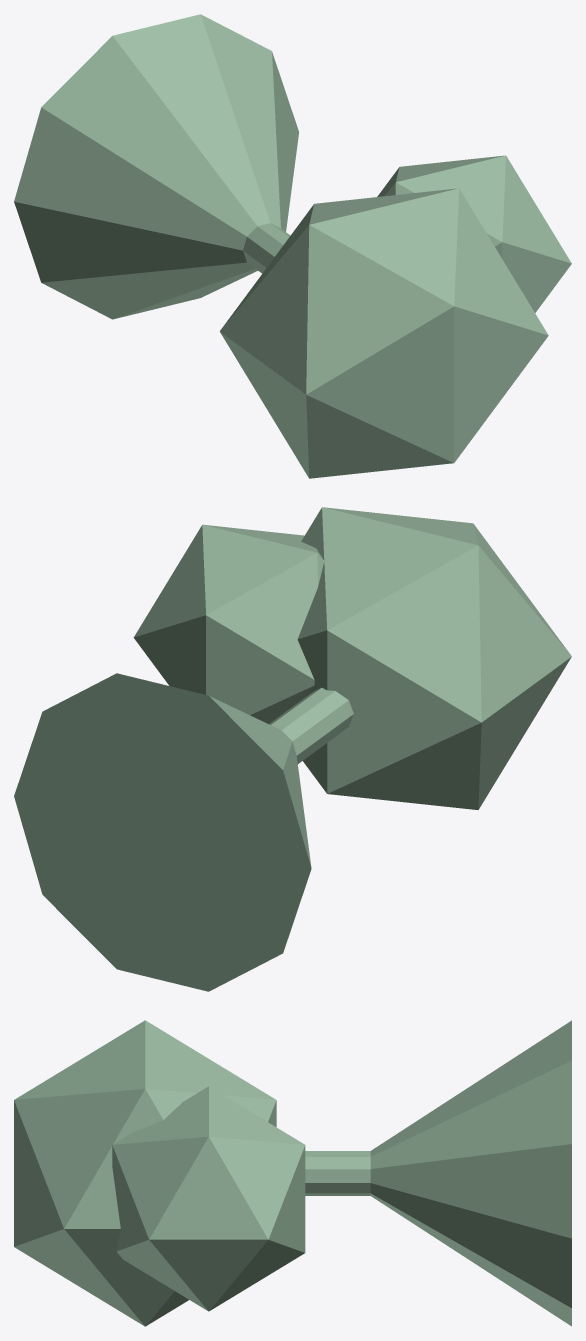
File: office-planter_lod0.glb
3 views of the same model, one above another, from view 1: azimuth 30°, elevation 25°; view 2: azimuth 150°, elevation 25°; view 3: azimuth 270°, elevation 25° (orthographic). The views are drawn at different scales.
Parts seen in each view (by area): view 1: world; view 2: world; view 3: world.
Part boxes in pixels (left/top/right/bottom): world: left=14, top=14, right=571, bottom=478; world: left=14, top=507, right=571, bottom=991; world: left=14, top=1020, right=571, bottom=1326.
Bounding box in the file's own units: 0.7927 × 0.6467 × 1.23.
